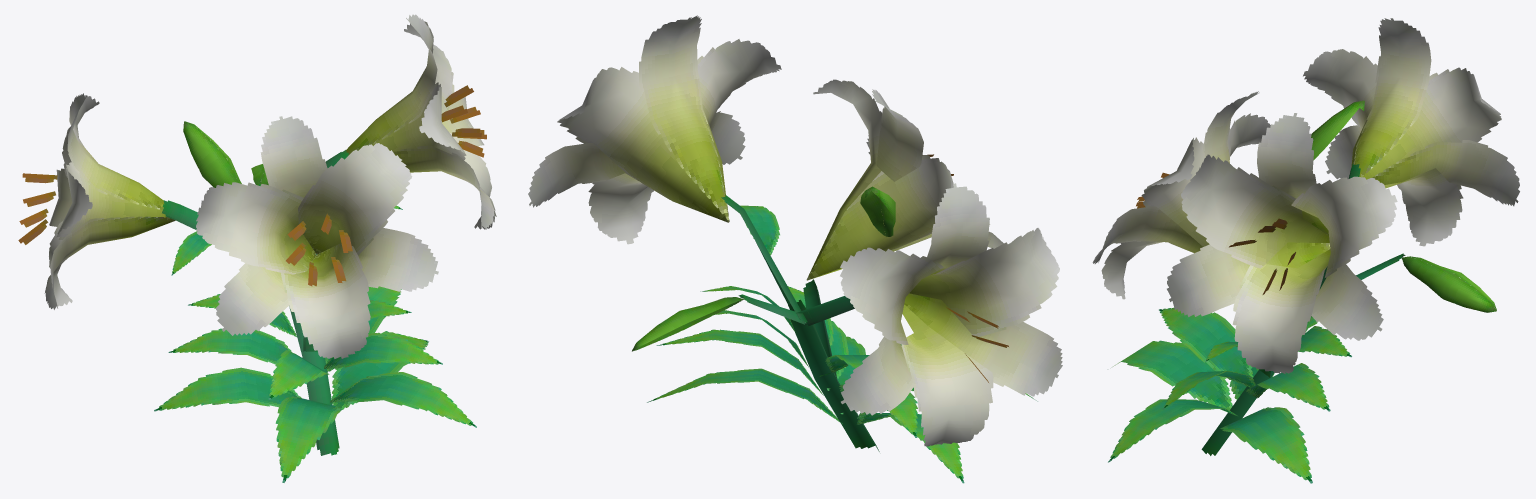
The model's file is white-lilies.glb.
3 renders of one model, left to right at view 1: azimuth 30°, elevation 25°; view 2: azimuth 150°, elevation 25°; view 3: azimuth 270°, elevation 25°, orthographic. The views are drawn at different scales.
Size of the model in its own units: 9.48 by 7.92 by 7.59.
2 materials, 2 textured.
